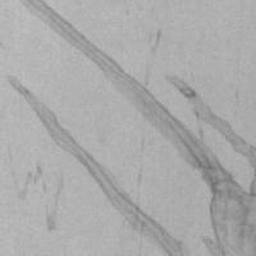Water spot: (13, 0, 256, 256), (8, 83, 196, 256)
